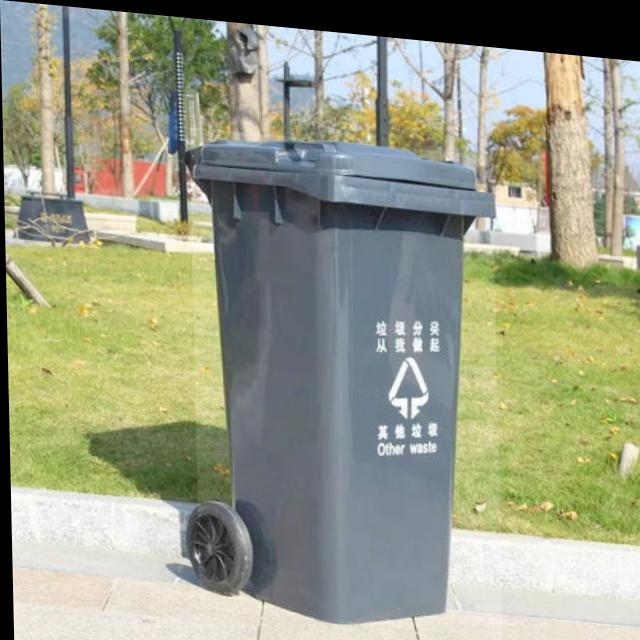garbage_bin: (189, 123, 500, 628)
